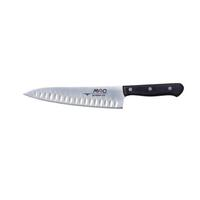knife: (19, 82, 194, 117)
